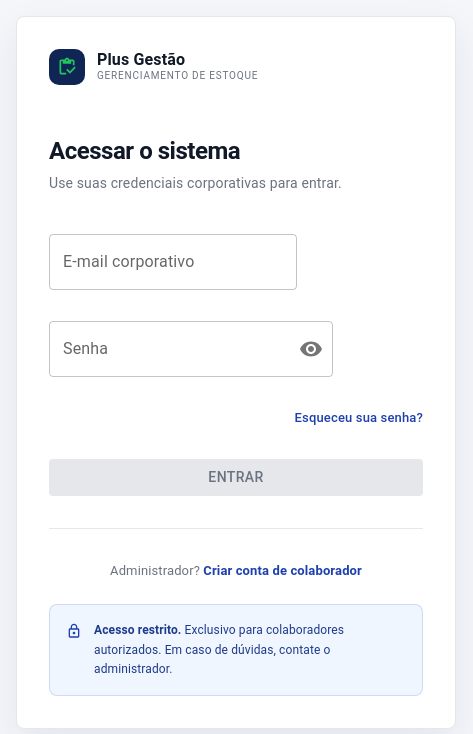
it: LoginPage › exibe mensagem de erro quando a API retorna 401
Type "user@plus.com" into the field labelled "E-mail corporativo" at [173, 262], box [49,234,297,290]
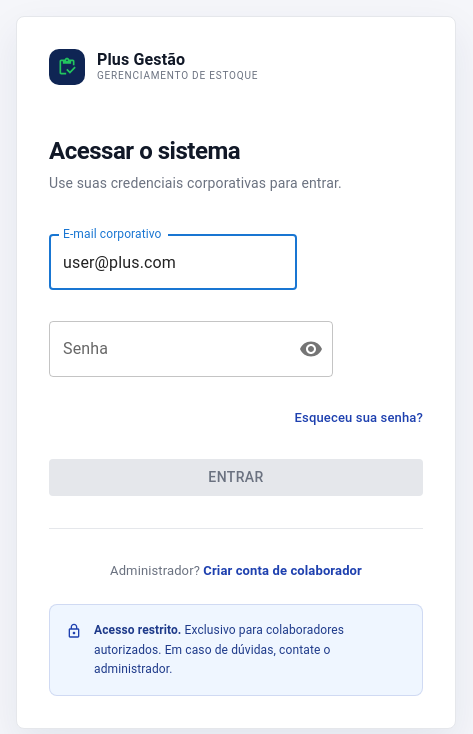
Type "senhaerrada" into the password field labelled "Senha" at [166, 349], box [49,321,283,377]
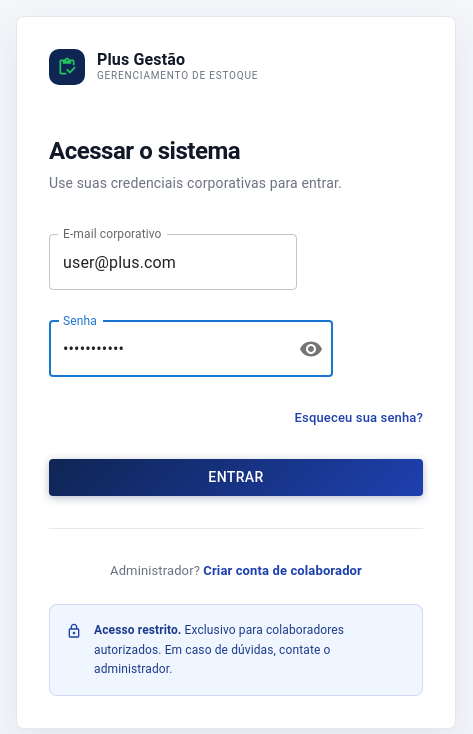
Check: the button "Entrar" is enabled
Click the button "Entrar" at [236, 478], box [49,459,423,496]
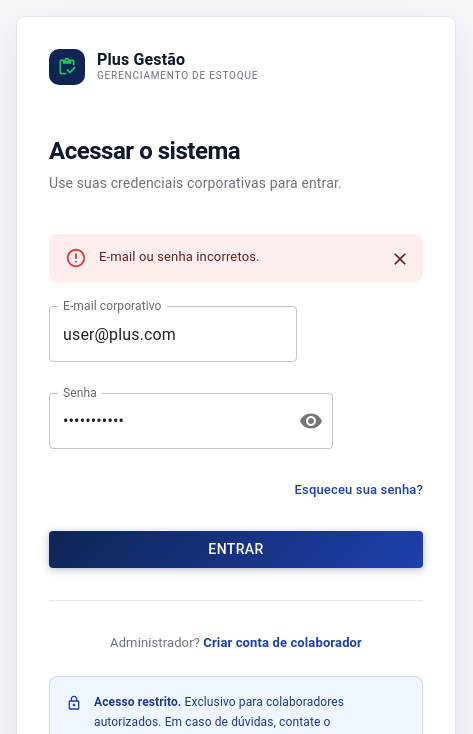
Check: the message shows "E-mail ou senha incorretos", box [99,249,260,264]
